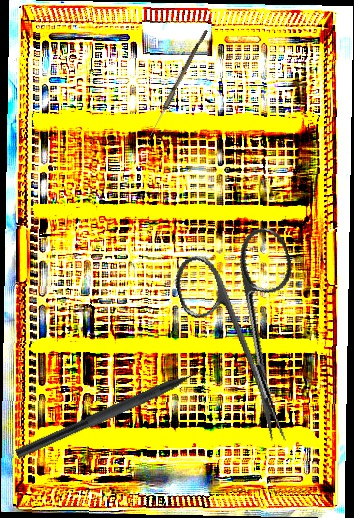Chopper: (14, 358, 222, 473)
Iris Scissors: (167, 222, 338, 459)
Surgical Spoon: (148, 28, 208, 138)
